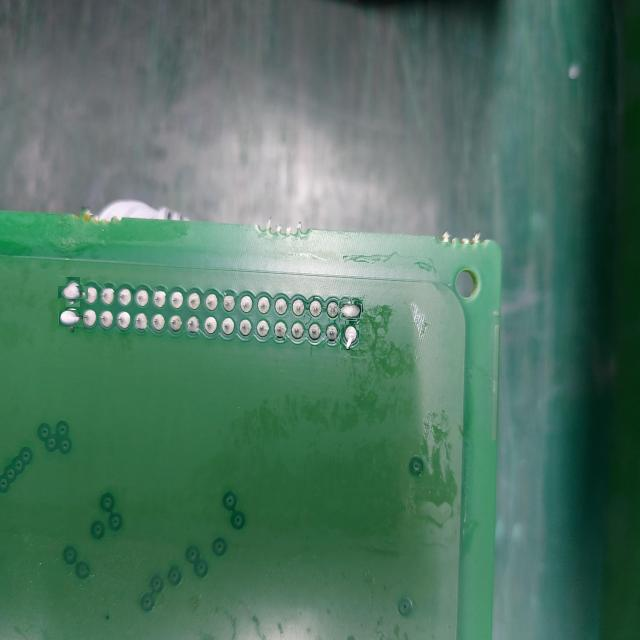slug: (340, 298, 362, 321), (340, 324, 359, 350), (62, 281, 84, 303), (60, 308, 82, 329)
